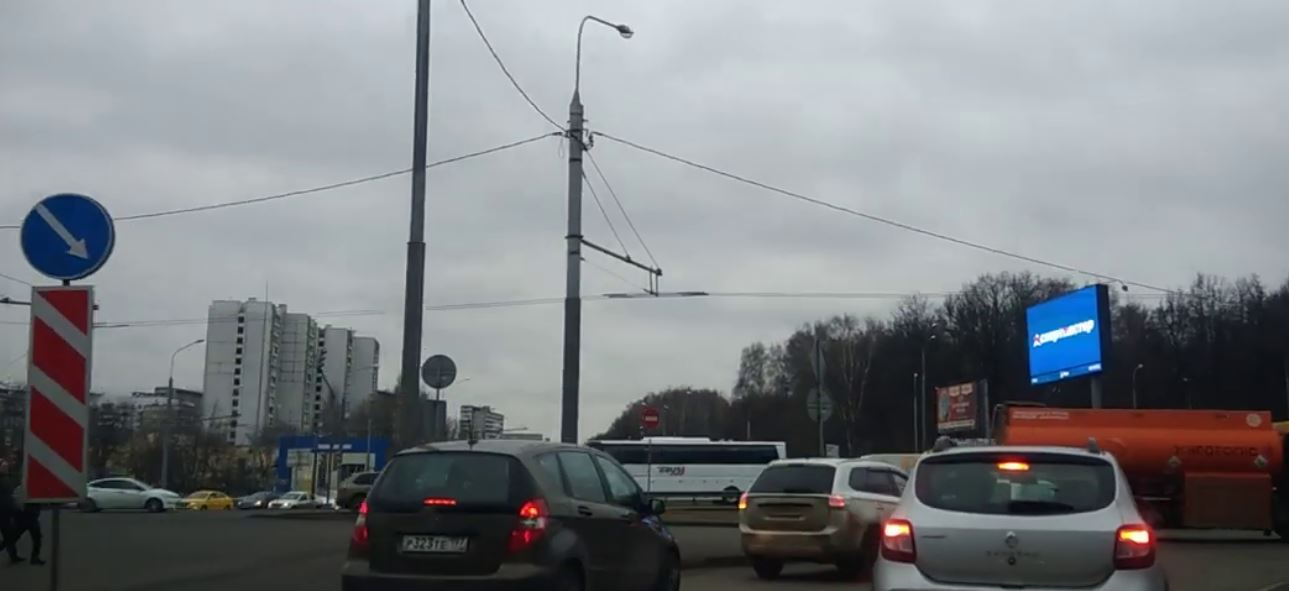Sagdan Git: (18, 191, 115, 282)
